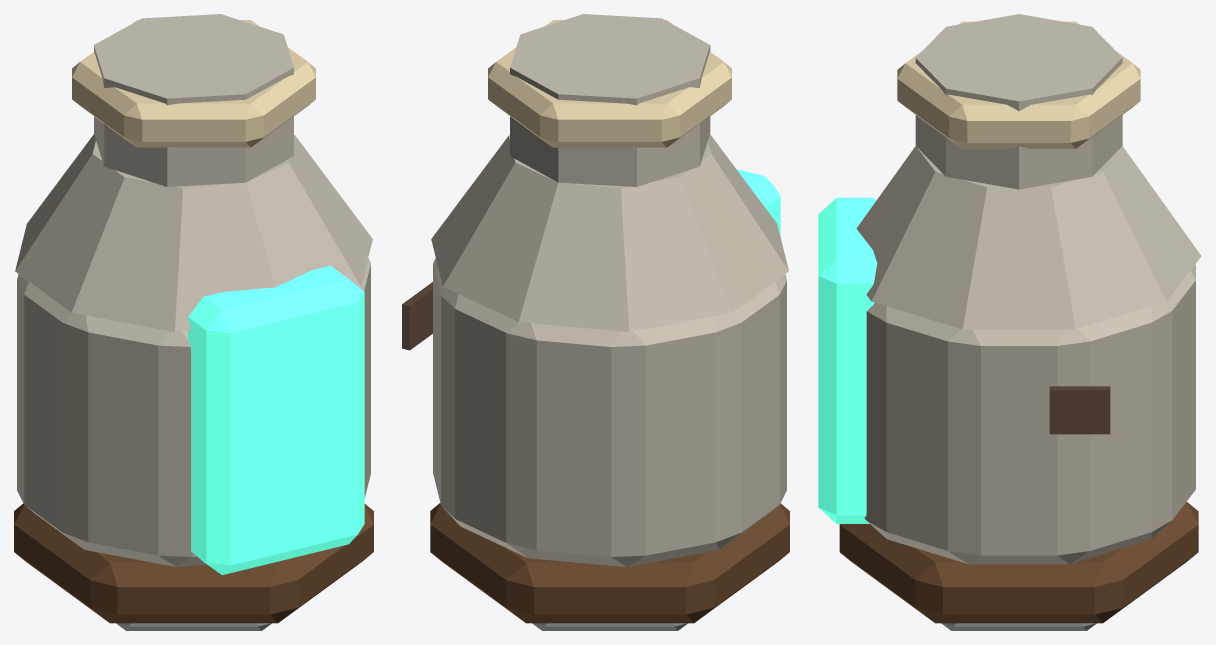
Rendered from core_font.glb.
3 renders of one model, left to right at view 1: azimuth 30°, elevation 25°; view 2: azimuth 150°, elevation 25°; view 3: azimuth 270°, elevation 25°, orthographic.
Parts seen in each view (by area): view 1: core_font; view 2: core_font; view 3: core_font.
Boxes of the visible parts, x1,y1,x2,y2 form: core_font: (14,14,373,630); core_font: (402,14,789,630); core_font: (818,14,1201,630).
Size of the model in its own units: 0.5928 by 0.9572 by 0.63.
1 material, 1 textured.
